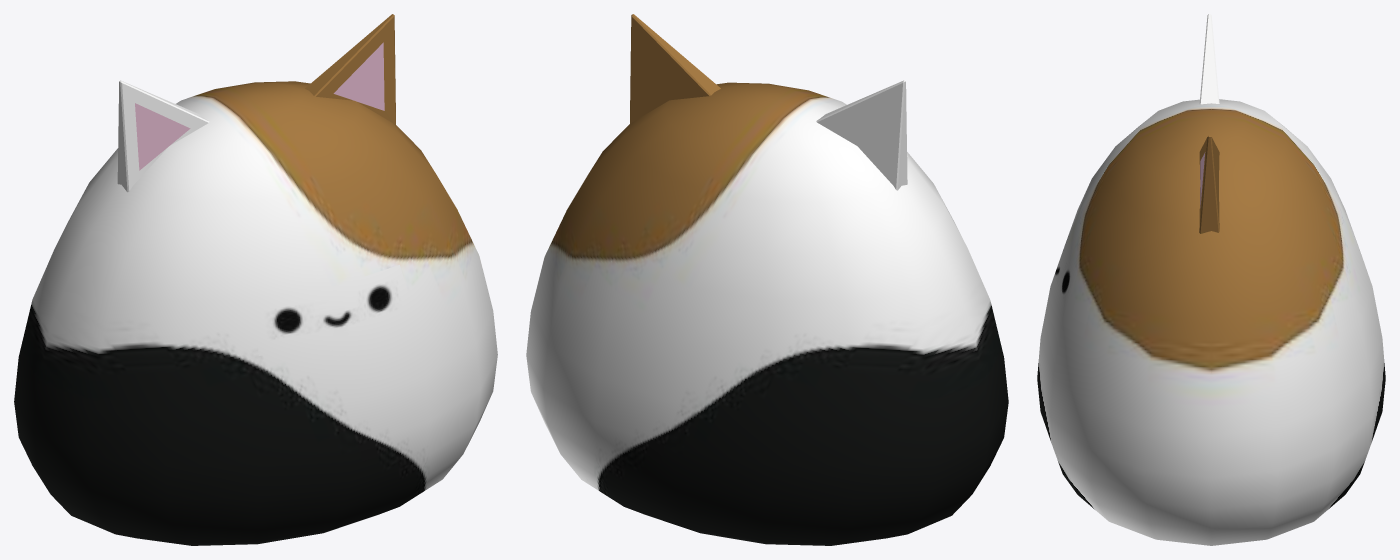
File: cat.fbx
The picture shows the model from 3 angles, left to right: view 1: azimuth 30°, elevation 25°; view 2: azimuth 150°, elevation 25°; view 3: azimuth 270°, elevation 25°; orthographic projection. The views are drawn at different scales.
Parts seen in each view (by area): view 1: Cat; view 2: Cat; view 3: Cat.
Part boxes in pixels (<box>): Cat: <box>14,14,497,545</box>; Cat: <box>526,14,1008,545</box>; Cat: <box>1037,14,1385,545</box>.
Bounding box in the file's own units: 2.29 × 2.28 × 1.69.
3 materials, 2 textured.
